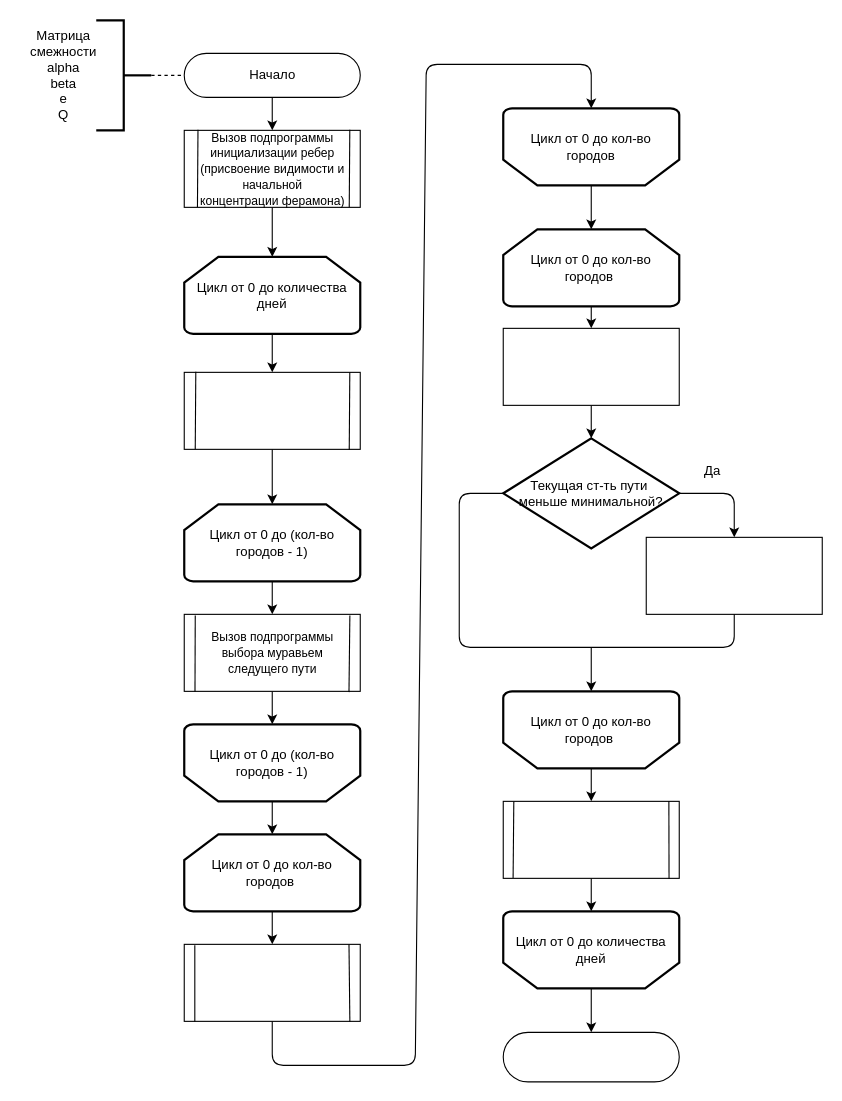
This 842x1101 diagram has some shape labels left out. The centre of each missing label's shape, as x and y in pixels:
"Вызов подпрограммы генерирования списка муравьев" belongs at pixel 271 410.
"Вызов подпрограммы добавления последнего города" belongs at pixel 271 982.
"Вызов подпрограммы пересчета матрицы ферамонов" belongs at pixel 590 839.
"Конец" belongs at pixel 590 1056.
"Минимальная ст-ть пути = Текущая ст-ть пути" belongs at pixel 733 575.
"Текущая ст-ть пути = стоимость i пути" belongs at pixel 590 366.
